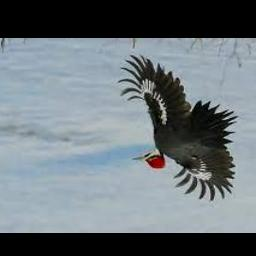Woodpecker: (117, 56, 238, 203)
